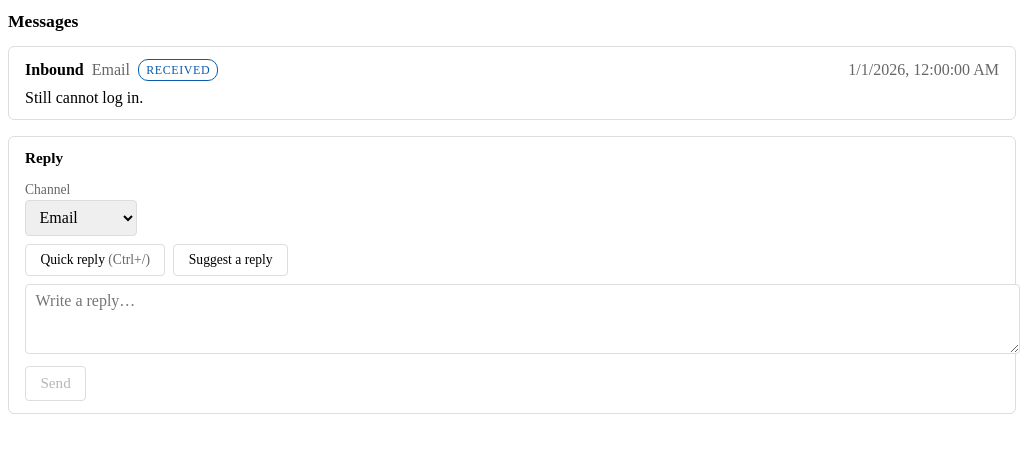
Scenario: MessagesPanel › confirms before overwriting a non-empty draft
Type "my own draft" into the text box named "Message body". click: x=523, y=319
box: x1=25 y1=284 x2=1020 y2=354
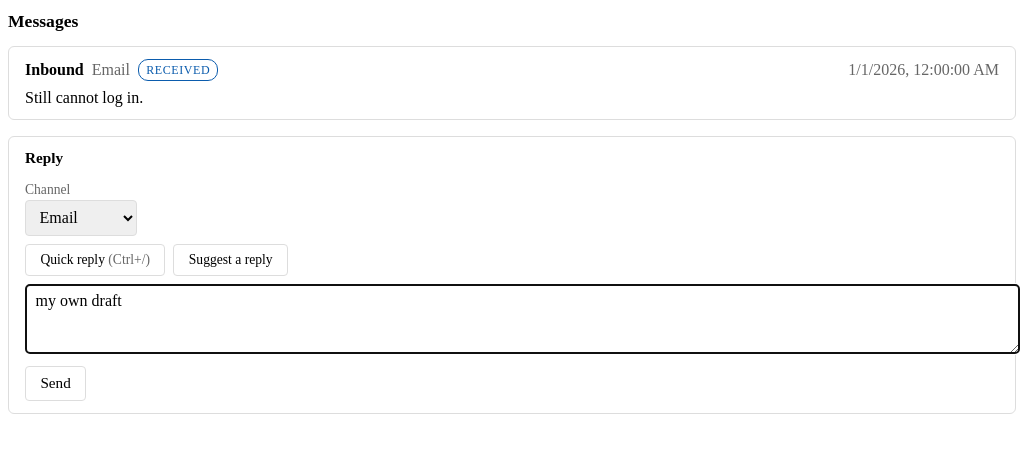
Click the button "Suggest a reply". click: x=231, y=260
box: x1=173 y1=244 x2=288 y2=276
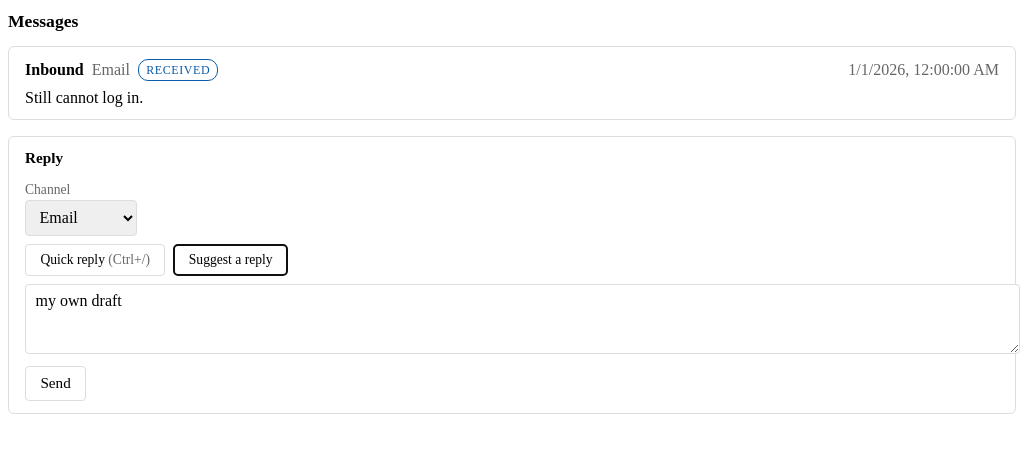
Click the button "Suggest a reply". click: x=231, y=260
box: x1=173 y1=244 x2=288 y2=276
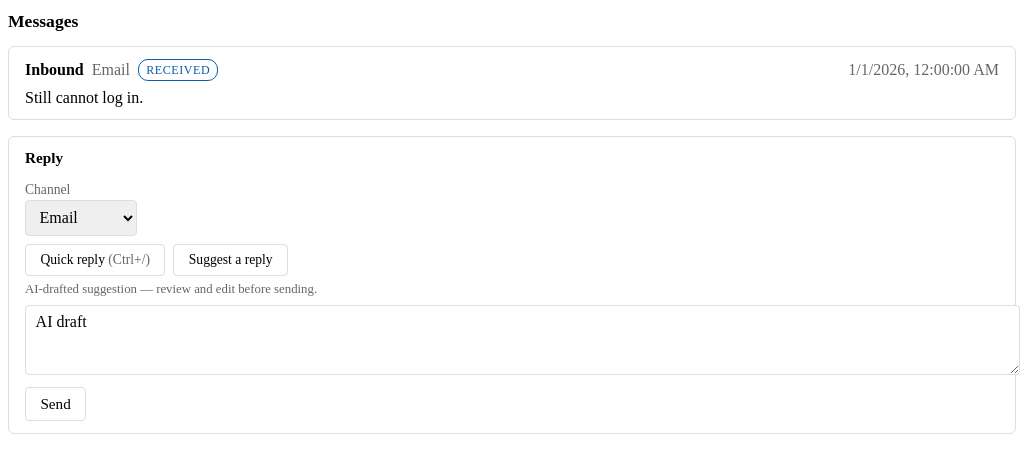
Expected: the text box named "Message body" holds "AI draft", x1=25 y1=304 x2=1020 y2=375
